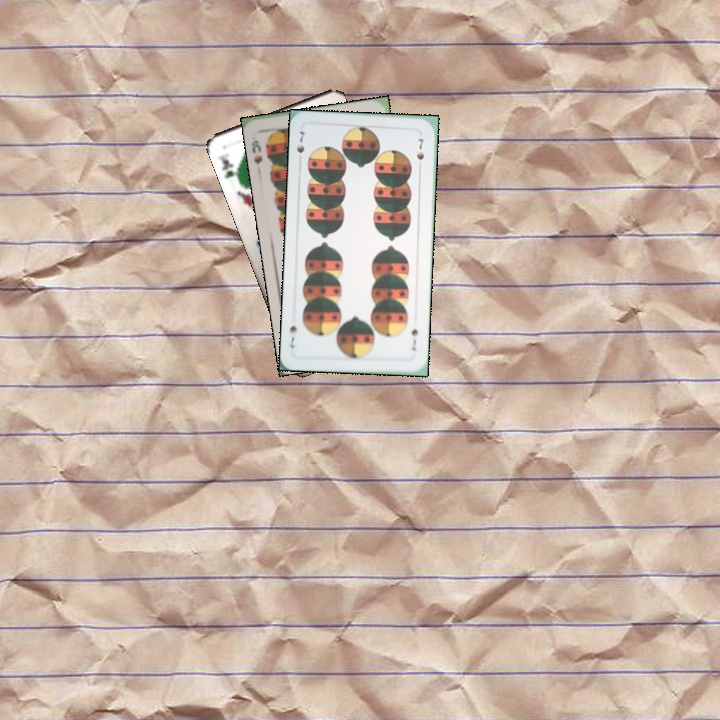GK: (213, 149, 241, 182)
S7: (292, 127, 307, 155), (407, 325, 421, 353)
S8: (248, 136, 265, 167)
